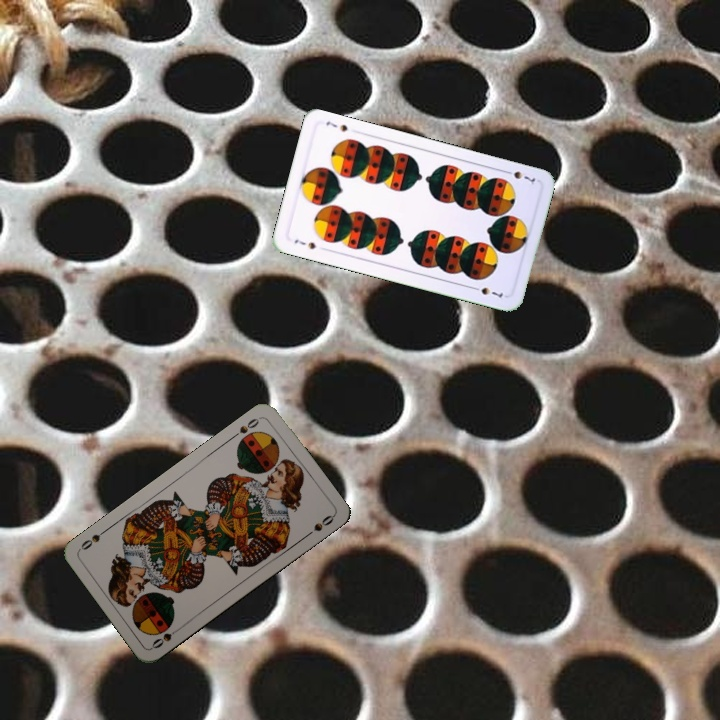S7: (500, 166, 538, 187), (290, 235, 318, 252)
SO: (147, 623, 184, 651), (228, 413, 264, 441)
